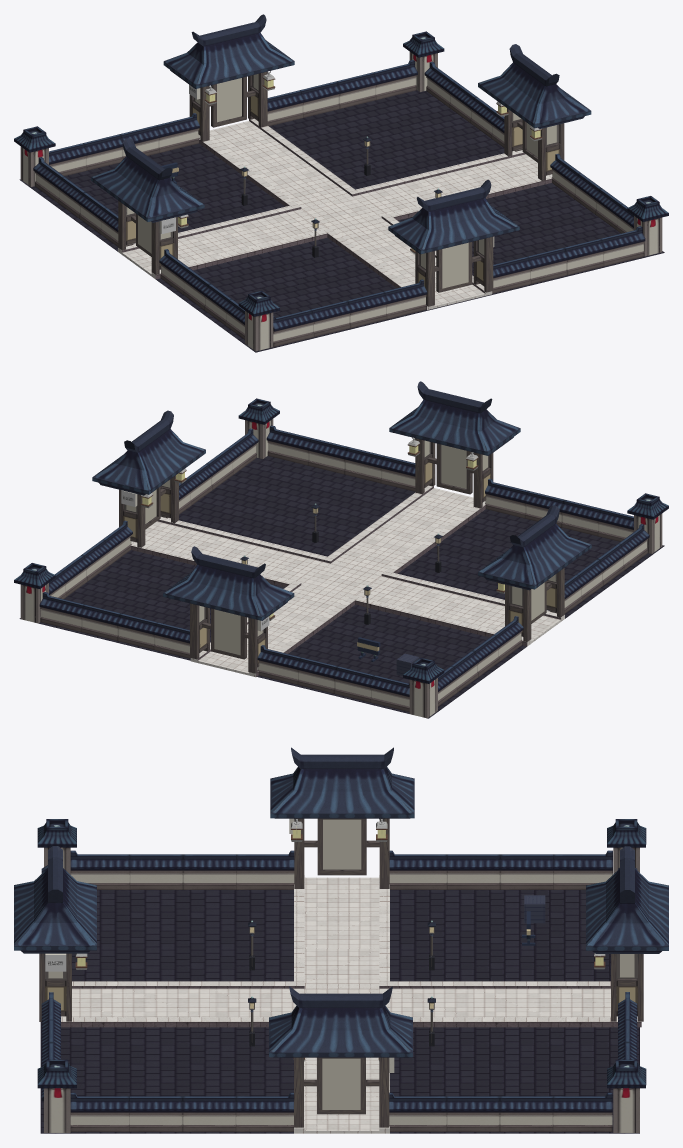
The model's file is JL_BackGround_ Modeling_FBX.FBX.
3 renders of one model, top to bottom at view 1: azimuth 30°, elevation 25°; view 2: azimuth 150°, elevation 25°; view 3: azimuth 270°, elevation 25°, orthographic. The views are drawn at different scales.
Parts seen in each view (by area): view 1: floor, Street, Door3, Door, Door2, Door4, Fance2, Fance, Fance5, Fance6, Fance3, Fance4 (+6 smaller); view 2: floor, Street, Door, Door3, Door2, Door4, Fance6, Fance5, Fance, Fance2, Fance4, Fance3 (+6 smaller); view 3: floor, Street, Door4, Door2, Door3, Door, Fance7, Fance8, Fance4, Fance3, Pillar, Pillar3 (+5 smaller).
Boxes of the visible parts, x1,y1,x2,y2 form: floor: (19, 90, 664, 352); Street: (118, 118, 552, 309); Door3: (388, 179, 519, 306); Door: (163, 14, 294, 141); Door2: (91, 138, 204, 274); Door4: (478, 44, 591, 180); Fance2: (273, 279, 427, 346); Fance: (492, 226, 645, 293); Fance5: (267, 60, 417, 126); Fance6: (49, 113, 199, 176); Fance3: (33, 157, 133, 246); Fance4: (159, 249, 244, 339); floor: (19, 456, 664, 718); Street: (131, 485, 564, 677); Door: (163, 546, 294, 673); Door3: (389, 381, 520, 508); Door2: (478, 505, 591, 641); Door4: (92, 410, 205, 547); Fance6: (257, 645, 409, 712); Fance5: (39, 592, 190, 658); Fance: (266, 425, 415, 491); Fance2: (485, 478, 633, 541); Fance4: (549, 524, 649, 613); Fance3: (438, 616, 523, 706); floor: (40, 890, 639, 1133); Street: (61, 875, 641, 1133); Door4: (269, 986, 412, 1127); Door2: (270, 747, 414, 888); Door3: (14, 846, 96, 1021); Door: (586, 846, 668, 1021); Fance7: (70, 1092, 293, 1131); Fance8: (389, 1092, 612, 1131); Fance4: (70, 850, 294, 889); Fance3: (389, 850, 612, 889); Pillar: (37, 1059, 76, 1132); Pillar3: (607, 1059, 646, 1132).
Size of the model in its own units: 216 by 51.24 by 219.
Materials: 9 (9 with a texture image).
